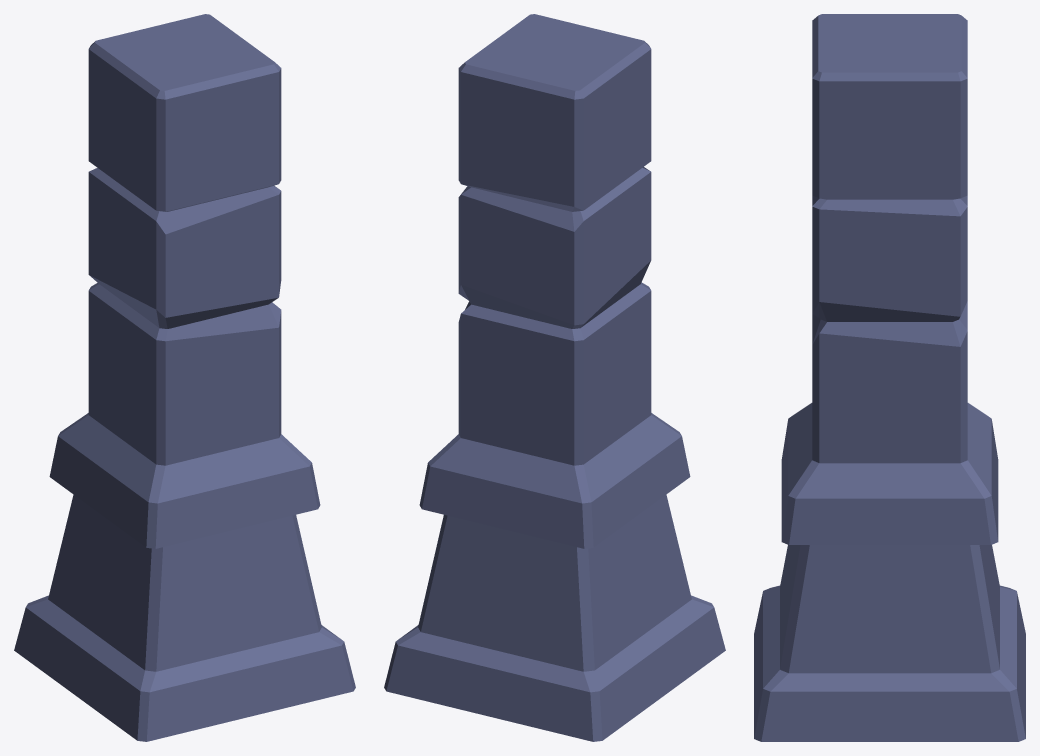
Rendered from stonepilar.fbx.
3 views of the same model, side by side, from view 1: azimuth 30°, elevation 25°; view 2: azimuth 150°, elevation 25°; view 3: azimuth 270°, elevation 25° (orthographic). The views are drawn at different scales.
Visible parts, largest first — view 1: stonepilar1; view 2: stonepilar1; view 3: stonepilar1.
Boxes of the visible parts, box(x1,y1,x2,y2) form: stonepilar1: box(14, 14, 355, 741); stonepilar1: box(384, 14, 725, 741); stonepilar1: box(754, 14, 1025, 741).
Size of the model in its own units: 1.12 by 3.02 by 1.16.
